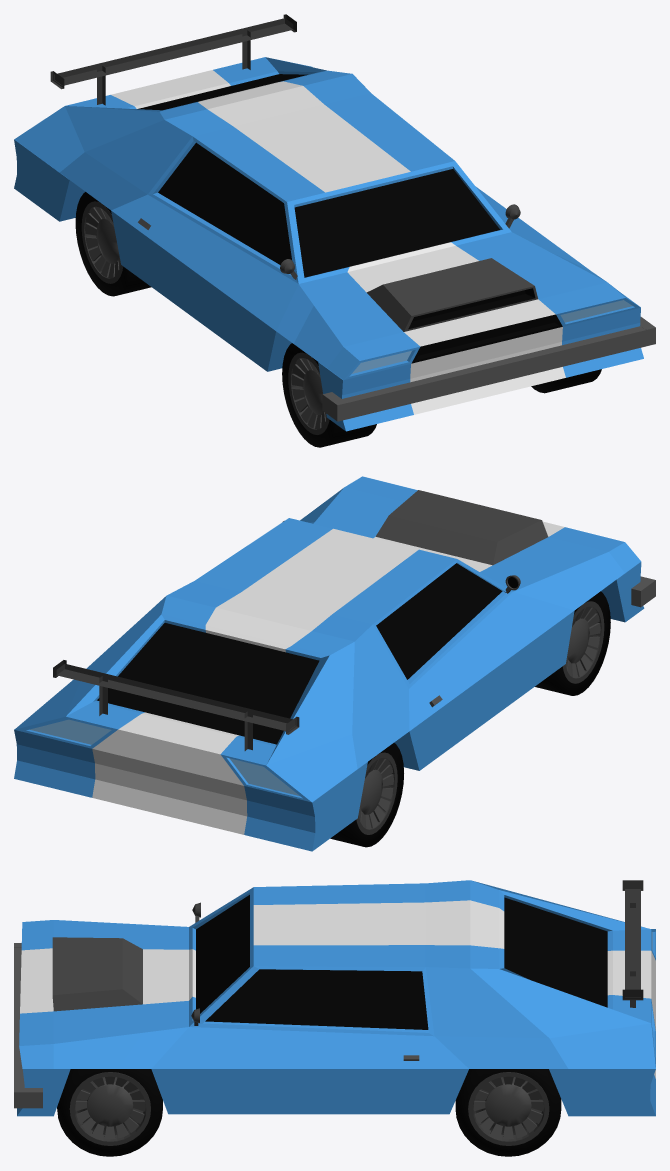
Rendered from PlayerCar.fbx.
The picture shows the model from 3 angles, top to bottom: view 1: azimuth 30°, elevation 25°; view 2: azimuth 150°, elevation 25°; view 3: azimuth 270°, elevation 25°; orthographic projection. The views are drawn at different scales.
Visible parts, largest first — view 1: Cylinder.003, Cylinder.004, Cylinder.006, Cylinder.148, Cylinder.138, Cylinder.007, Cylinder.140, Cylinder.008, Cylinder.040, Cylinder.002, Cylinder.041, Cylinder.145 (+3 smaller); view 2: Cylinder.003, Cylinder.004, Cylinder.006, Cylinder.138, Cylinder.140, Cylinder.002, Cylinder.008, Cylinder.040, Cylinder.041, Cylinder.009, Cylinder.144, Cylinder.145 (+1 smaller); view 3: Cylinder.003, Cylinder.006, Cylinder.004, Cylinder.138, Cylinder.072, Cylinder.104, Cylinder.073, Cylinder.105, Cylinder.140, Cylinder.146, Cylinder.147, Cylinder.148 (+1 smaller).
Boxes of the visible parts, x1,y1,x2,y2 form: Cylinder.003: [14, 57, 643, 431]; Cylinder.004: [111, 70, 565, 414]; Cylinder.006: [137, 74, 499, 277]; Cylinder.148: [337, 326, 655, 421]; Cylinder.138: [366, 258, 537, 331]; Cylinder.007: [408, 288, 562, 363]; Cylinder.140: [54, 18, 293, 85]; Cylinder.008: [282, 343, 376, 447]; Cylinder.040: [75, 192, 151, 296]; Cylinder.002: [352, 300, 632, 373]; Cylinder.041: [96, 219, 119, 263]; Cylinder.145: [81, 201, 123, 283]; Cylinder.003: [14, 476, 644, 851]; Cylinder.004: [92, 521, 564, 834]; Cylinder.006: [97, 563, 502, 744]; Cylinder.138: [375, 490, 548, 565]; Cylinder.140: [56, 663, 295, 731]; Cylinder.002: [30, 719, 299, 795]; Cylinder.008: [535, 591, 610, 695]; Cylinder.040: [330, 743, 403, 847]; Cylinder.041: [360, 769, 383, 814]; Cylinder.009: [567, 618, 589, 663]; Cylinder.144: [562, 601, 604, 683]; Cylinder.145: [356, 752, 397, 834]; Cylinder.003: [17, 880, 655, 1116]; Cylinder.006: [196, 895, 607, 1029]; Cylinder.004: [20, 900, 655, 1078]; Cylinder.138: [52, 937, 142, 1011]; Cylinder.072: [455, 1069, 561, 1156]; Cylinder.104: [57, 1069, 162, 1156]; Cylinder.073: [475, 1077, 542, 1134]; Cylinder.105: [76, 1077, 144, 1134]; Cylinder.140: [625, 884, 640, 997]; Cylinder.146: [468, 1072, 549, 1145]; Cylinder.147: [69, 1072, 150, 1145]; Cylinder.148: [14, 947, 24, 1087].
Bounding box in the file's own units: 445 × 237 × 808.
